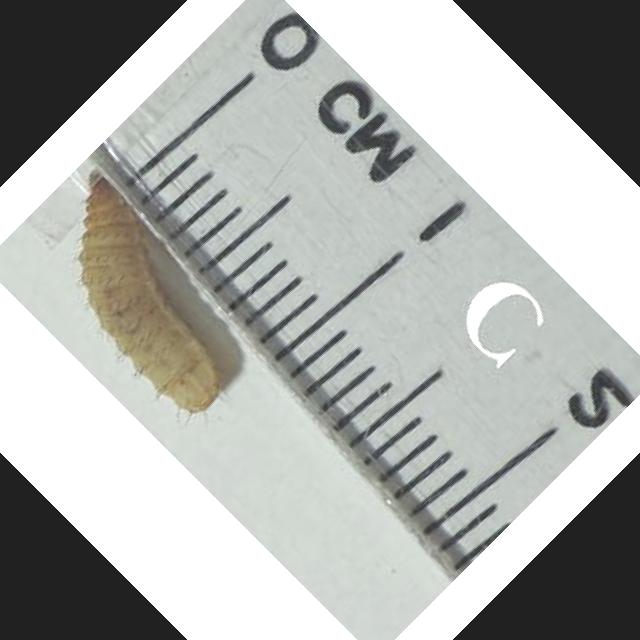Maggot: (79, 171, 220, 419)
